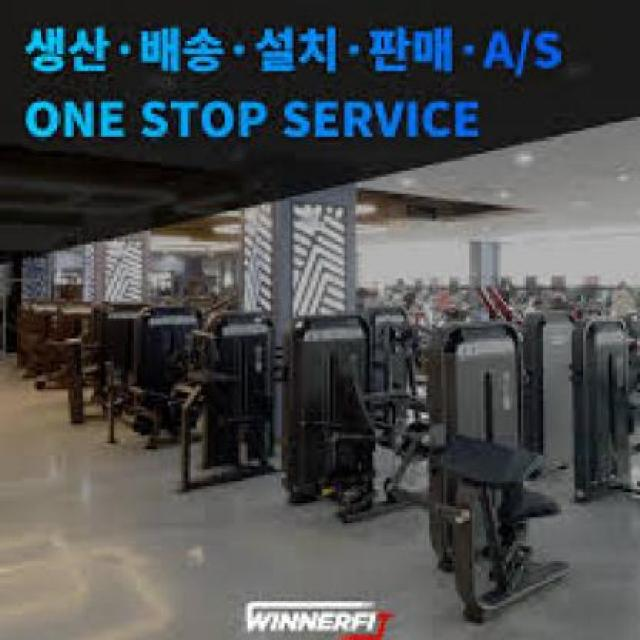arm curl machine: (388, 317, 570, 601)
